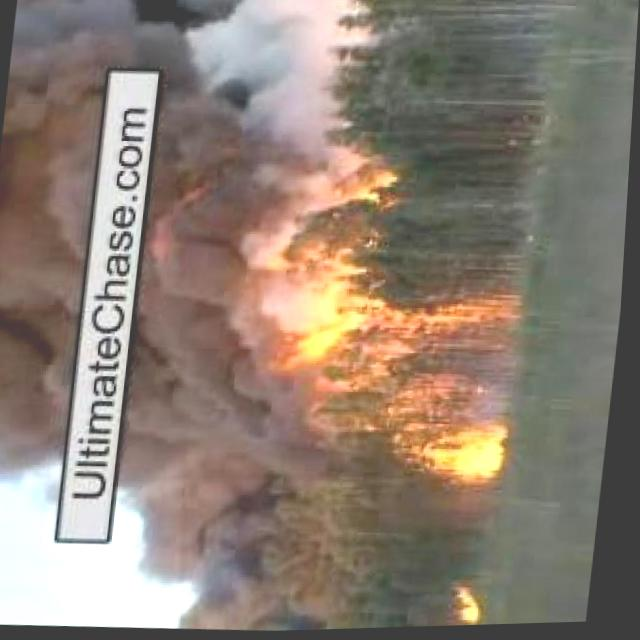helmet: (277, 277, 534, 381), (407, 413, 511, 496), (314, 160, 396, 217), (457, 590, 493, 629)
no_helmet: (238, 151, 542, 497), (115, 0, 284, 604), (0, 0, 113, 488), (457, 590, 493, 629)
